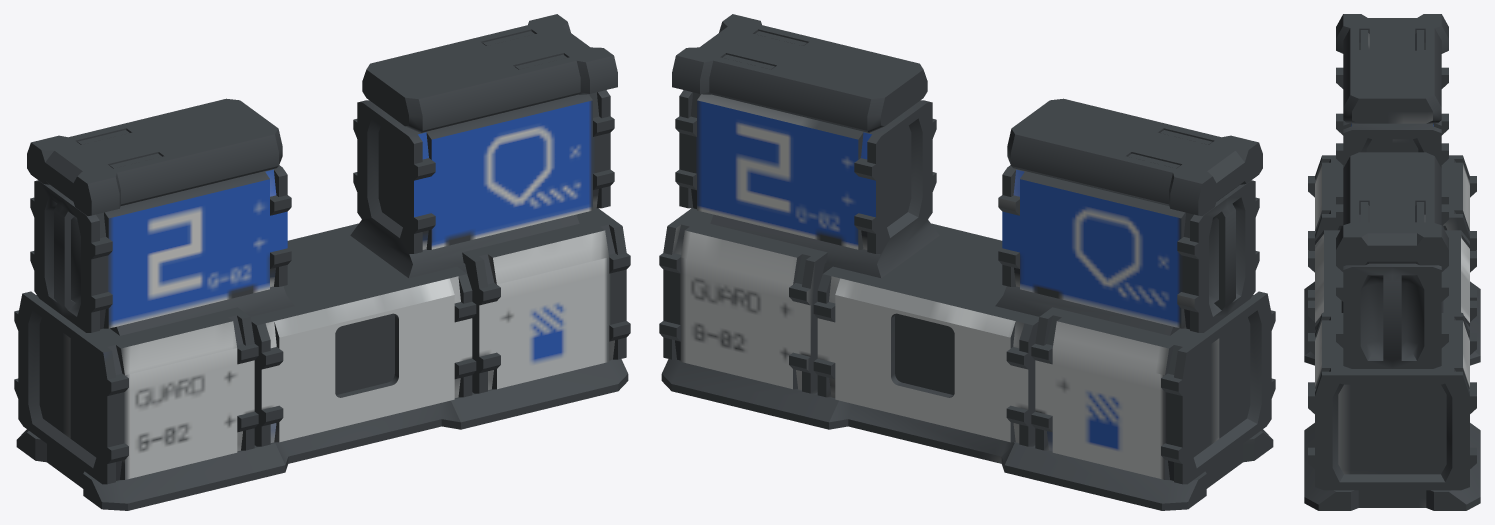
File: low-wall.glb
The picture shows the model from 3 angles, left to right: view 1: azimuth 30°, elevation 25°; view 2: azimuth 150°, elevation 25°; view 3: azimuth 270°, elevation 25°; orthographic projection. The views are drawn at different scales.
Visible parts, largest first — view 1: low-wall-low; view 2: low-wall-low; view 3: low-wall-low.
Part boxes in pixels (x1,y1,x2,y2): low-wall-low: (14, 14, 630, 510); low-wall-low: (659, 14, 1275, 510); low-wall-low: (1304, 14, 1480, 510).
Size of the model in its own units: 75 by 42.9 by 25.
1 material, 1 textured.
